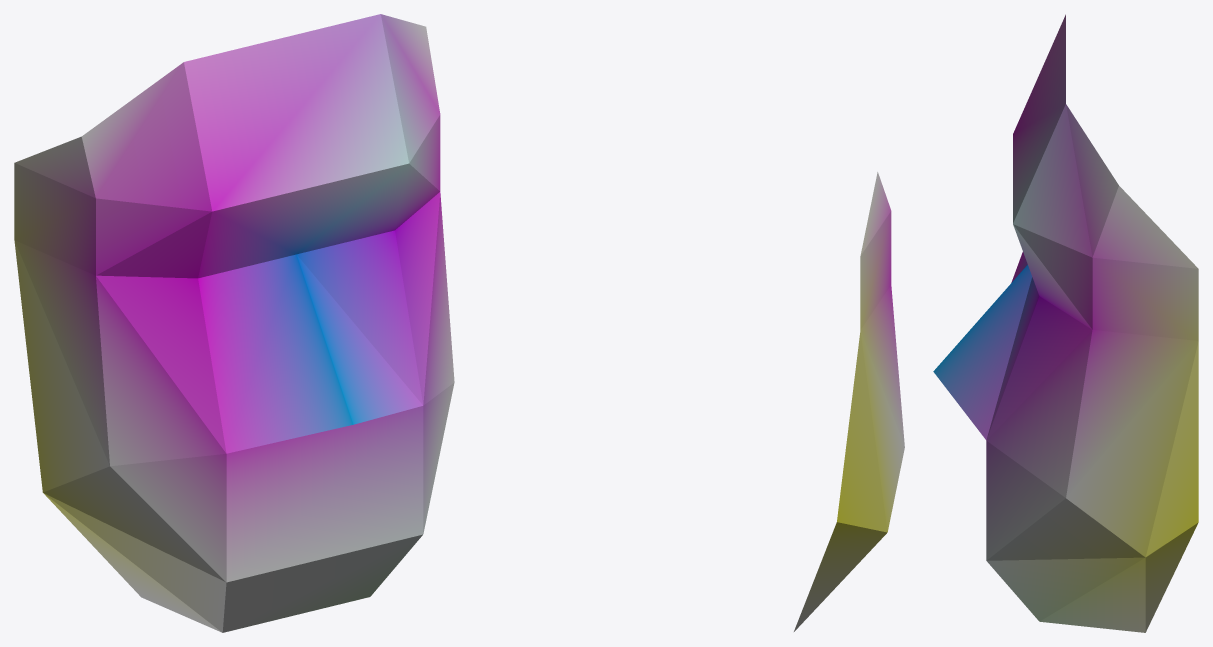
3 views of the same model, side by side, from view 1: azimuth 30°, elevation 25°; view 2: azimuth 150°, elevation 25°; view 3: azimuth 270°, elevation 25° (orthographic). The views are drawn at different scales.
Visible parts, largest first — view 1: model_1401; view 2: model_1401; view 3: model_1401.
Part boxes in pixels (<box>): model_1401: <box>14,14,454,632</box>; model_1401: <box>794,172,904,631</box>; model_1401: <box>933,14,1198,632</box>.
Bounding box in the file's own units: 16 × 22 × 10.
